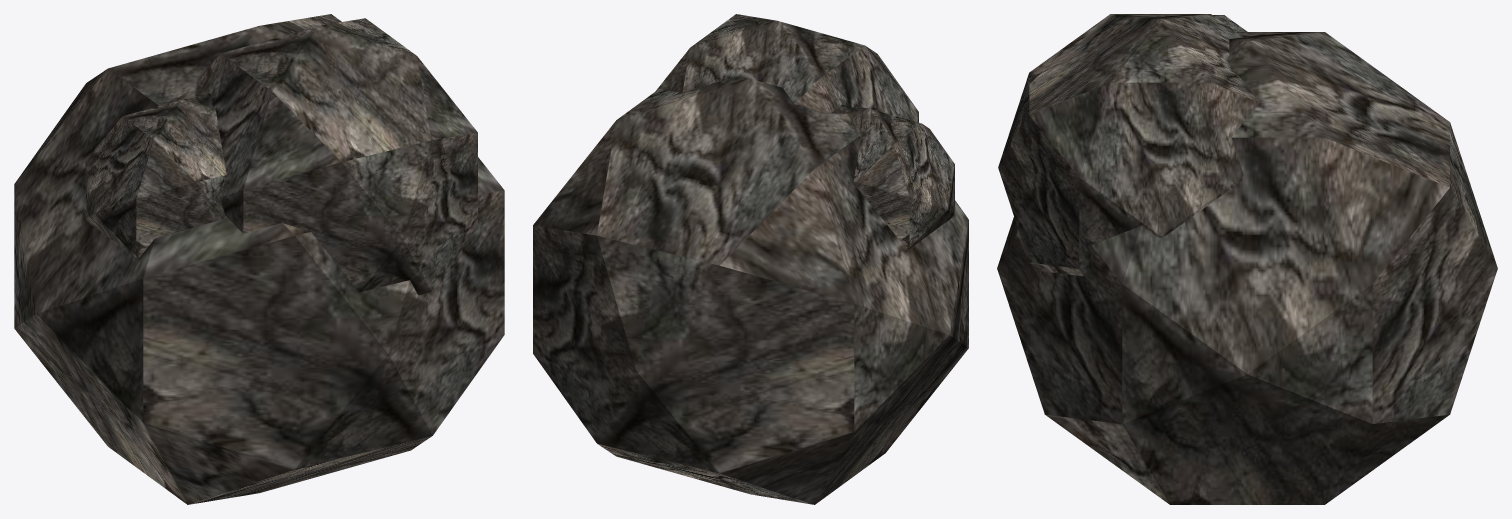
The model's file is Rock2.FBX.
The picture shows the model from 3 angles, left to right: view 1: azimuth 30°, elevation 25°; view 2: azimuth 150°, elevation 25°; view 3: azimuth 270°, elevation 25°; orthographic projection. The views are drawn at different scales.
Parts seen in each view (by area): view 1: Hedra001; view 2: Hedra001; view 3: Hedra001.
Boxes of the visible parts, bbox=[...] form: Hedra001: bbox=[14, 14, 504, 504]; Hedra001: bbox=[533, 14, 968, 504]; Hedra001: bbox=[997, 14, 1497, 504].
Size of the model in its own units: 20.5 by 21.78 by 20.5.
